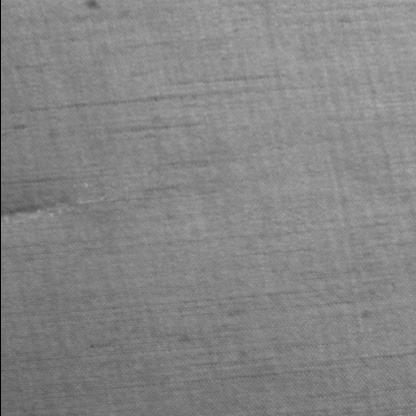thread error: (1, 195, 107, 223)
